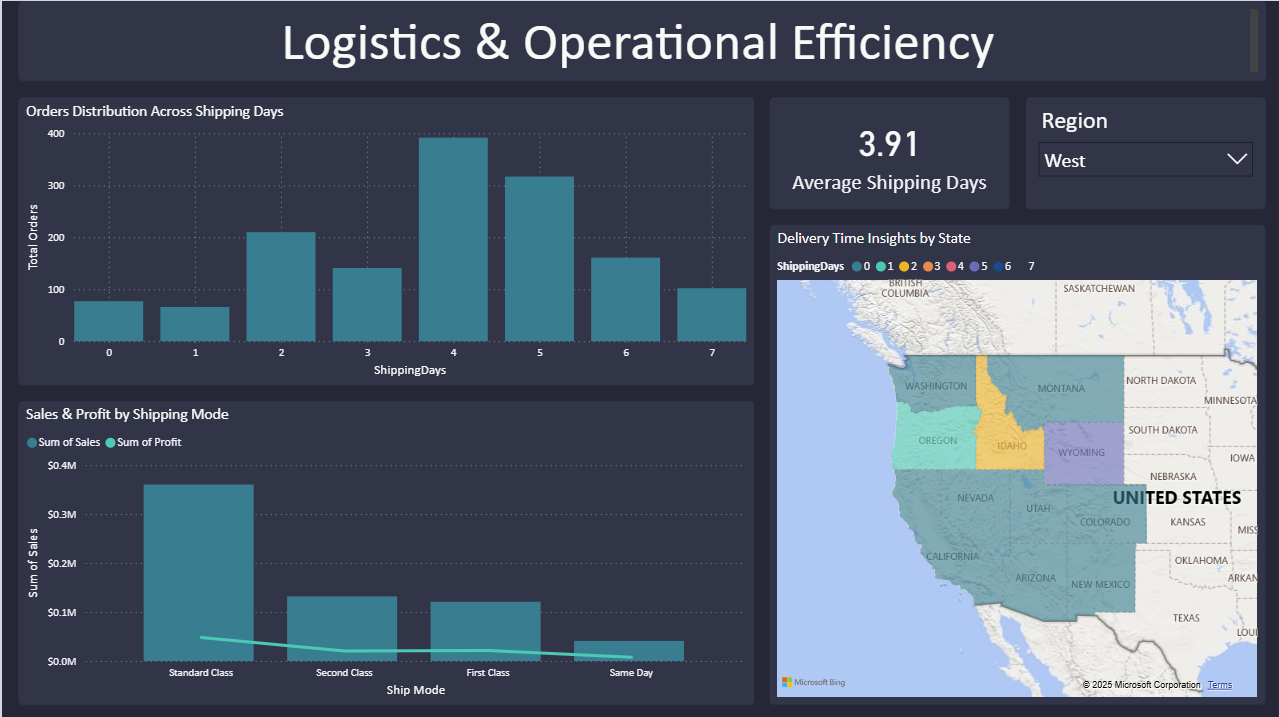

This screenshot's page, from the dashboard's own definition file:
{"tool":"powerbi","page":{"name":"Logistics & Operational Efficiency","canvas":[1280,720],"ordinal":4},"visuals":[{"type":"textbox","box":[16,0,1248,80],"z":0},{"type":"card","fields":{"Values":["Orders.Average Shipping Days"]},"box":[768,96,240,112],"z":1000},{"type":"columnChart","title":"Orders Distribution Across Shipping Days","fields":{"Category":["Orders.ShippingDays"],"Y":["Orders.Total Orders"]},"box":[16,96,736,288],"z":2000},{"type":"lineStackedColumnComboChart","title":"Sales & Profit by Shipping Mode","fields":{"Category":["Orders.Ship Mode"],"Y":["Sum(Orders.Sales)"],"Y2":["Sum(Orders.Profit)"]},"box":[16,400,736,304],"z":3000},{"type":"filledMap","title":"Delivery Time Insights by State","fields":{"Category":["Orders.State","Orders.City"],"Series":["Orders.ShippingDays"]},"box":[768,224,496,480],"z":4000},{"type":"slicer","fields":{"Values":["Orders.Region"]},"box":[1024,96,240,112],"z":5000}]}

Visuals, with their boxes in screenshot pixels (x1, y1, x2, y2), scaled from the page's 1280x720 canvas onto the 1279x717 screenshot:
textbox: x1=16, y1=0, x2=1263, y2=80
card - Orders.Average Shipping Days: x1=767, y1=96, x2=1007, y2=207
"Orders Distribution Across Shipping Days" columnChart: x1=16, y1=96, x2=751, y2=382
"Sales & Profit by Shipping Mode" lineStackedColumnComboChart: x1=16, y1=398, x2=751, y2=701
"Delivery Time Insights by State" filledMap: x1=767, y1=223, x2=1263, y2=701
slicer - Orders.Region: x1=1023, y1=96, x2=1263, y2=207
